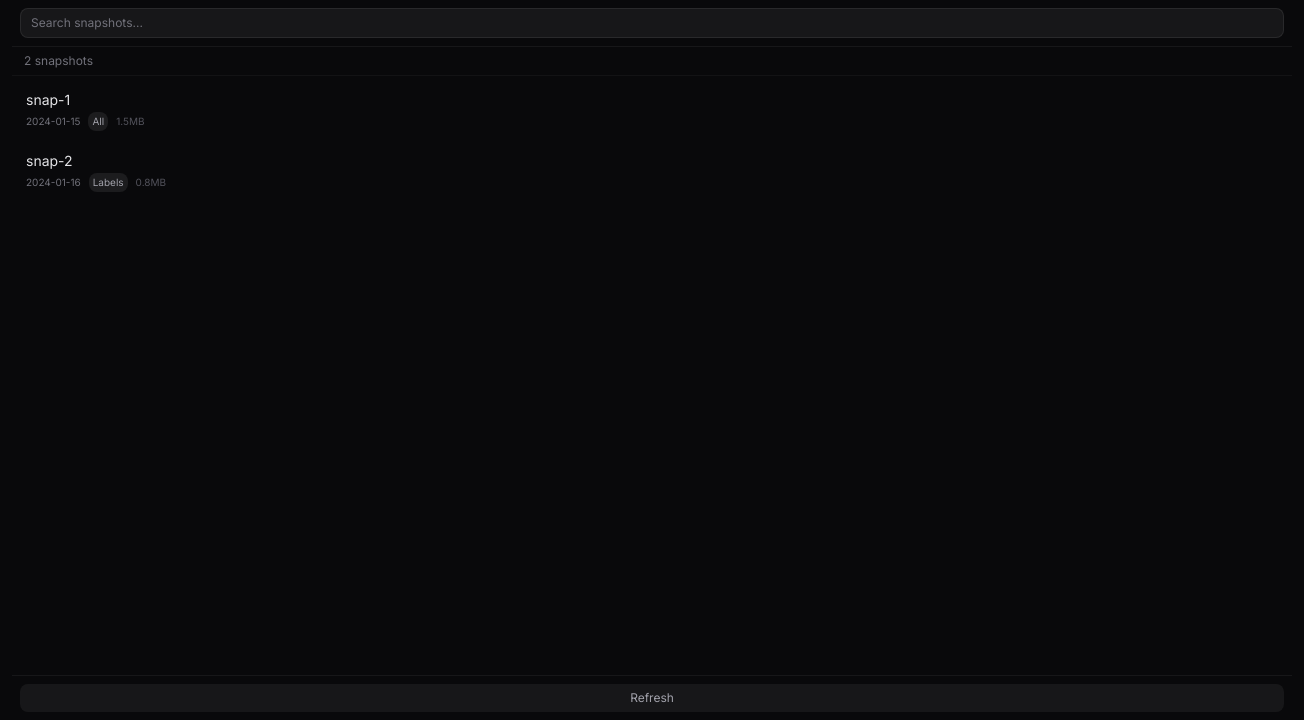
Scenario: SnapshotList › refreshes on Refresh button click
Expected: the text "snap-1" is shown, [26,91,70,108]
Click the button "Refresh" at coordinates (652, 698), box [20,684,1284,712]
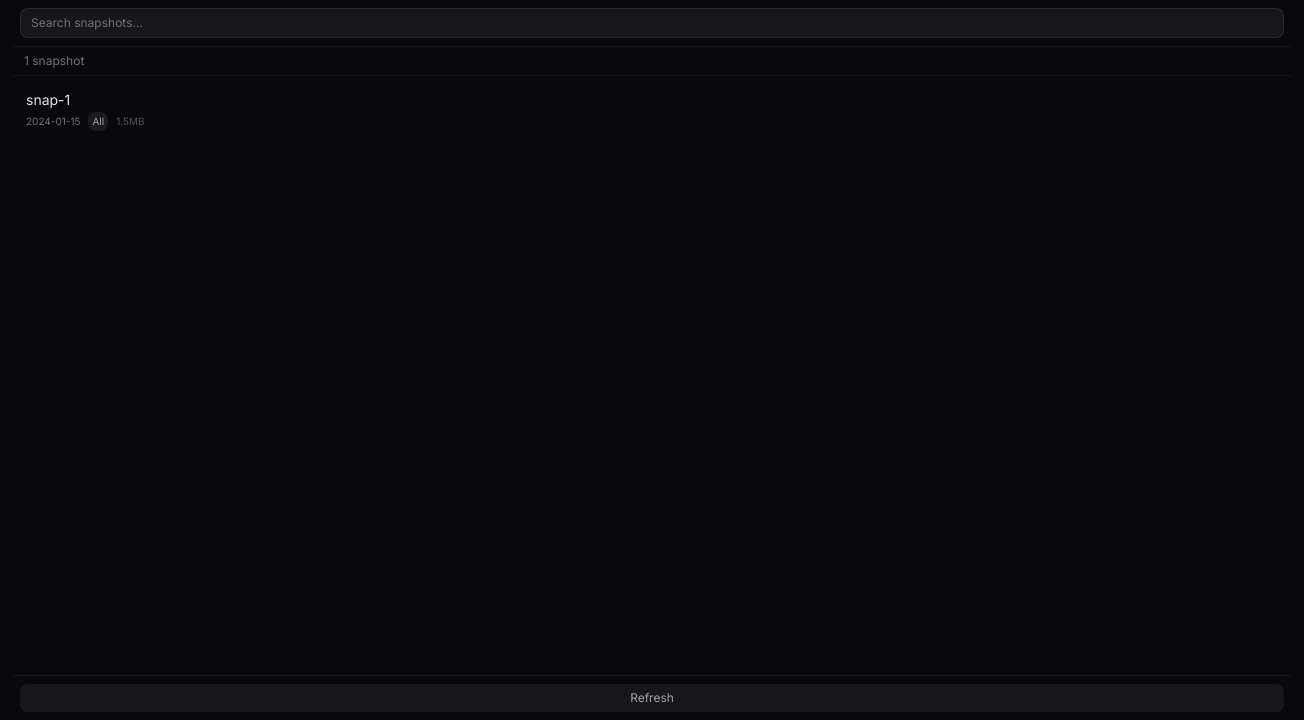
Expected: the text "1 snapshot" is shown, [12,47,1292,76]
